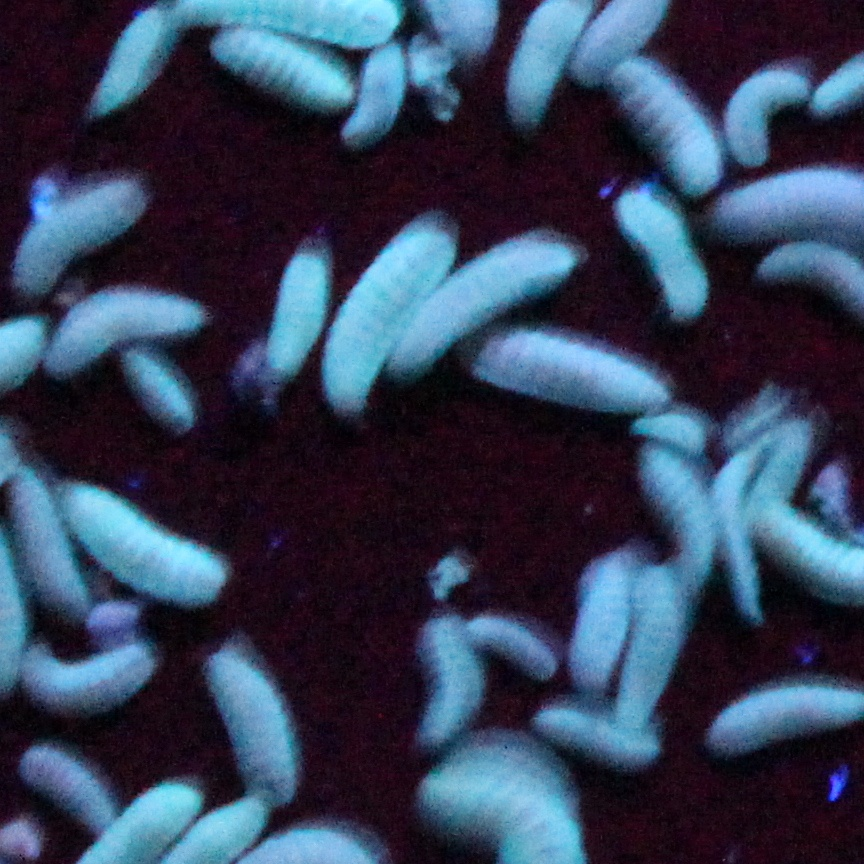larve: (391, 240, 574, 374), (323, 231, 453, 412), (64, 487, 224, 603), (472, 332, 669, 412), (612, 60, 720, 194), (15, 182, 145, 289), (47, 291, 200, 374), (5, 468, 88, 619), (207, 655, 293, 799), (615, 191, 708, 316), (213, 31, 352, 109), (638, 448, 710, 594), (628, 565, 684, 733), (21, 645, 154, 713), (712, 442, 761, 621), (90, 7, 166, 113), (724, 72, 808, 165), (419, 615, 478, 746), (572, 556, 629, 690), (22, 750, 111, 834), (535, 707, 654, 764), (266, 252, 321, 372), (466, 617, 558, 682), (344, 47, 405, 144), (124, 352, 192, 429), (750, 422, 810, 494), (633, 414, 705, 455)
